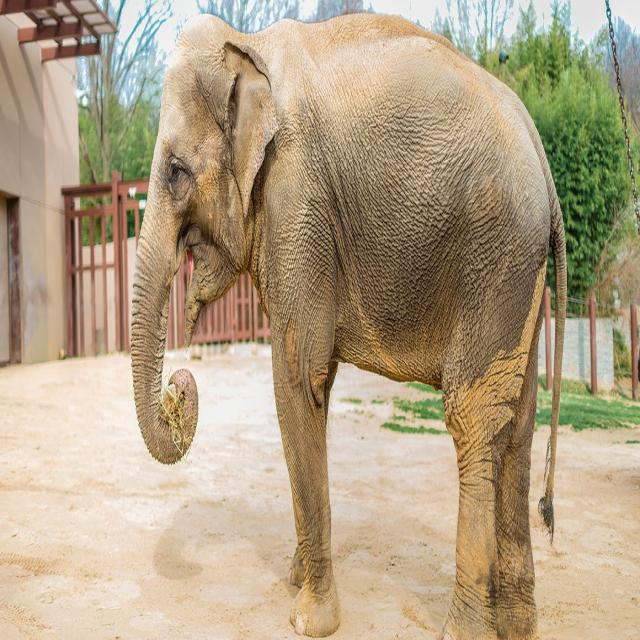elephant: (131, 14, 566, 639)
